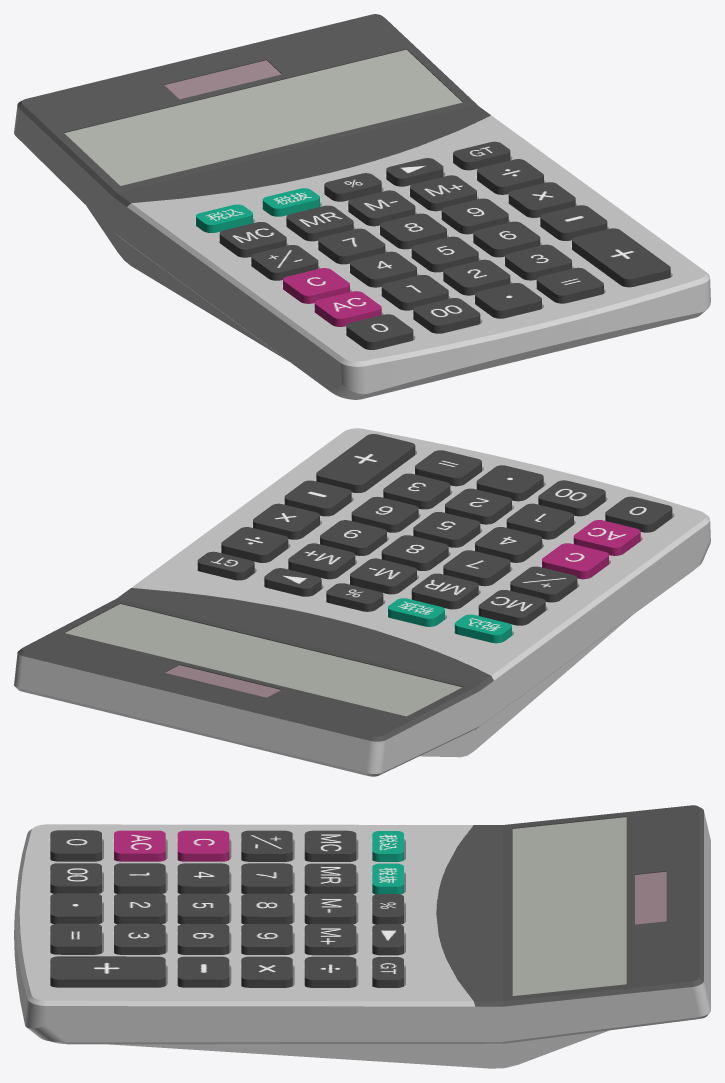
3 renders of one model, top to bottom at view 1: azimuth 30°, elevation 25°; view 2: azimuth 150°, elevation 25°; view 3: azimuth 270°, elevation 25°, orthographic.
Visible parts, largest first — view 1: Body; view 2: Body; view 3: Body.
Part boxes in pixels (x1,y1,x2,y2): Body: [14, 14, 710, 399]; Body: [14, 428, 710, 776]; Body: [14, 805, 710, 1068].
Bounding box in the file's own units: 0.107 × 0.0262 × 0.1754.
Materials: 7 (1 with a texture image).
